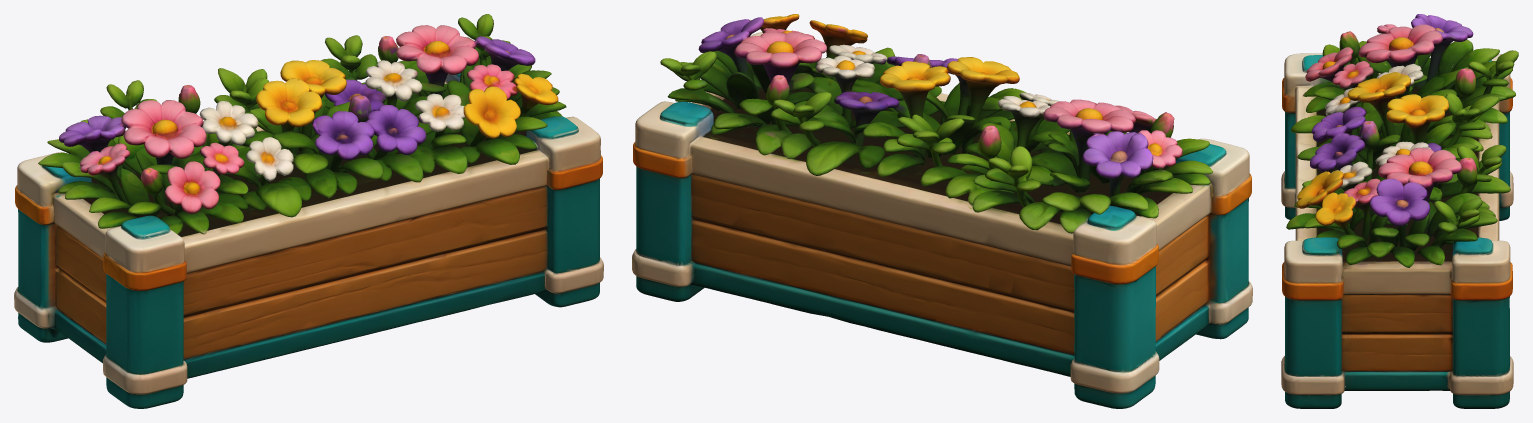
The model's file is FlowerPlanter.glb.
3 views of the same model, side by side, from view 1: azimuth 30°, elevation 25°; view 2: azimuth 150°, elevation 25°; view 3: azimuth 270°, elevation 25° (orthographic). The views are drawn at different scales.
Parts seen in each view (by area): view 1: tripo_node_c52df16c-a4a7-4042-92fa-29101f344061; view 2: tripo_node_c52df16c-a4a7-4042-92fa-29101f344061; view 3: tripo_node_c52df16c-a4a7-4042-92fa-29101f344061.
Boxes of the visible parts, x1=… form: tripo_node_c52df16c-a4a7-4042-92fa-29101f344061: x1=14, y1=14, x2=603, y2=408; tripo_node_c52df16c-a4a7-4042-92fa-29101f344061: x1=632, y1=14, x2=1252, y2=408; tripo_node_c52df16c-a4a7-4042-92fa-29101f344061: x1=1281, y1=14, x2=1518, y2=408.
Size of the model in its own units: 0.9813 by 0.4537 by 0.459.
Materials: 1 (1 with a texture image).
